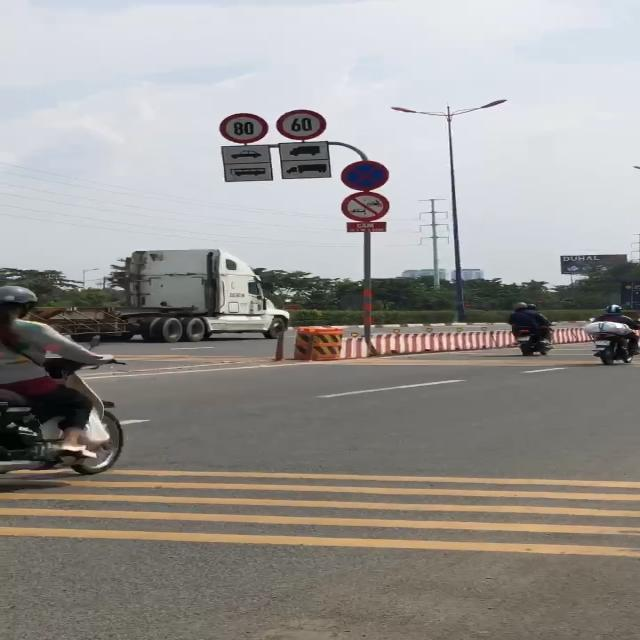Bien bao cam dung xe va do xe: (339, 157, 394, 191)
Bien bao toc do toi da cho phep: (273, 108, 334, 142), (216, 111, 271, 145)
